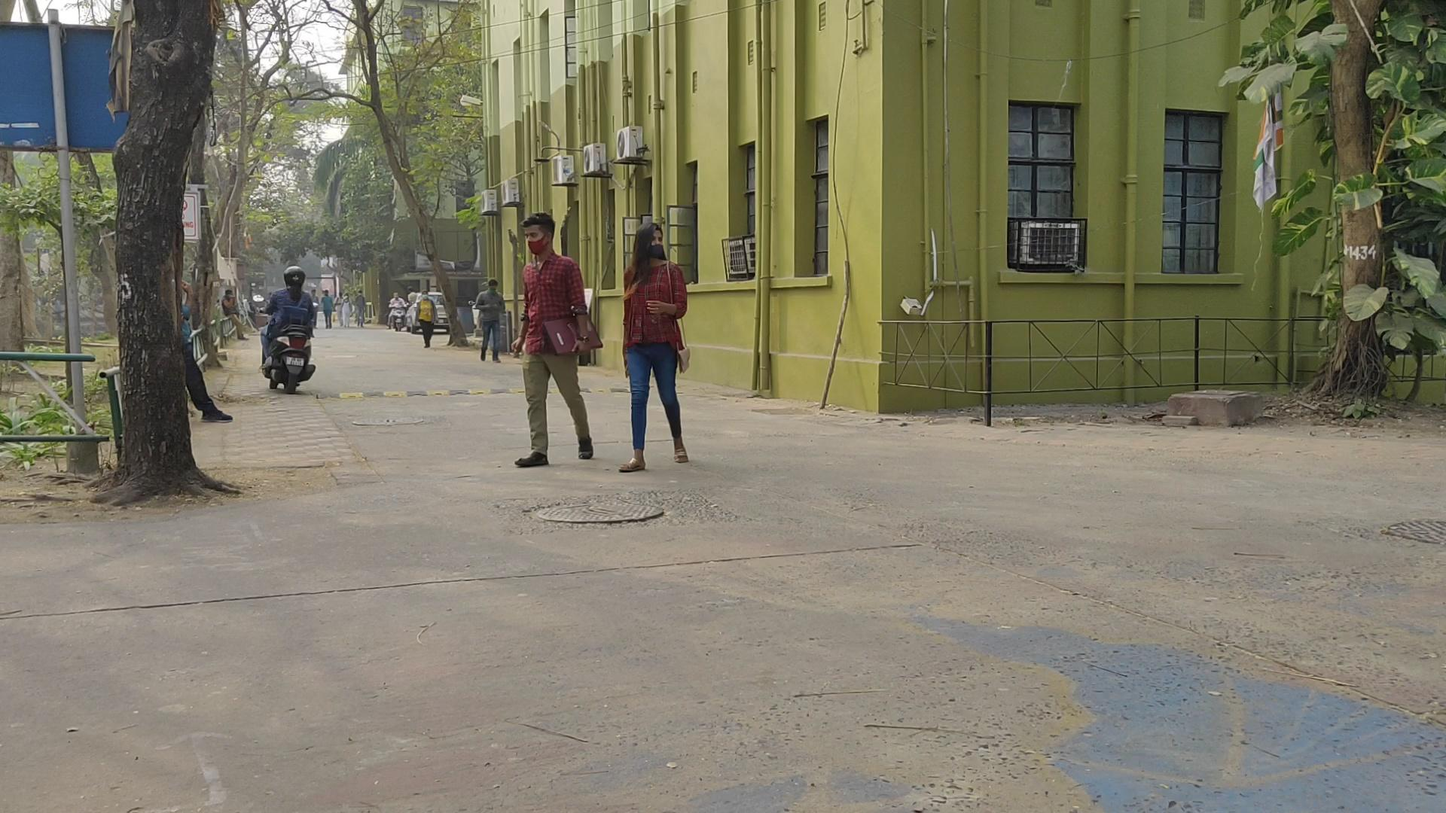bike: (255, 266, 322, 394), (386, 292, 407, 332)
car: (405, 292, 450, 335)
